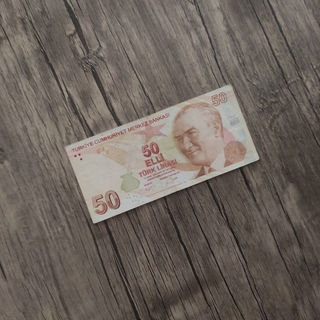50TLFront: (64, 84, 261, 224)
